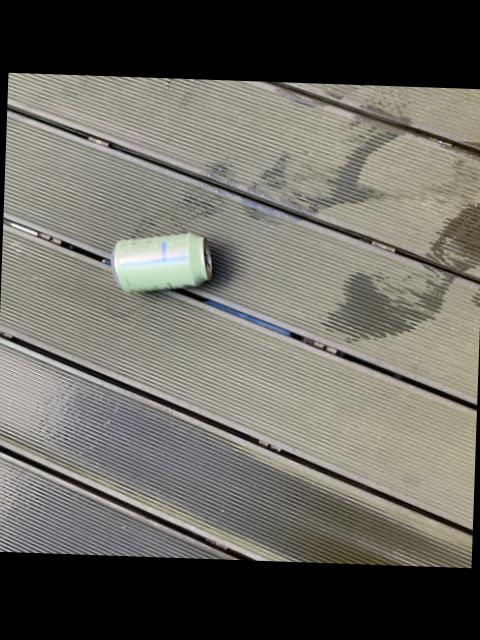metal: (111, 233, 211, 291)
